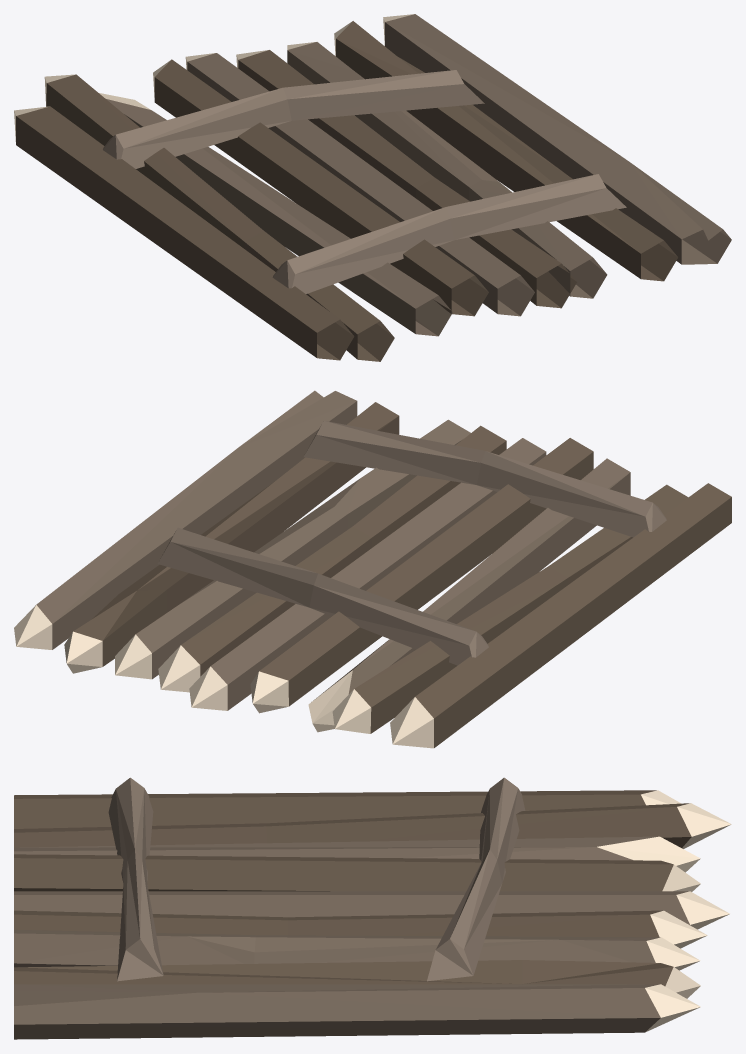
The model's file is fense_2.glb.
3 renders of one model, top to bottom at view 1: azimuth 30°, elevation 25°; view 2: azimuth 150°, elevation 25°; view 3: azimuth 270°, elevation 25°, orthographic. The views are drawn at different scales.
Parts seen in each view (by area): view 1: fense_2; view 2: fense_2; view 3: fense_2.
Part boxes in pixels (box(x1,y1,x2,y2)): fense_2: box(14, 14, 731, 361); fense_2: box(14, 390, 731, 748); fense_2: box(14, 777, 731, 1039).
Bounding box in the file's own units: 1.1 × 0.2132 × 1.5.
Materials: 1 (1 with a texture image).
